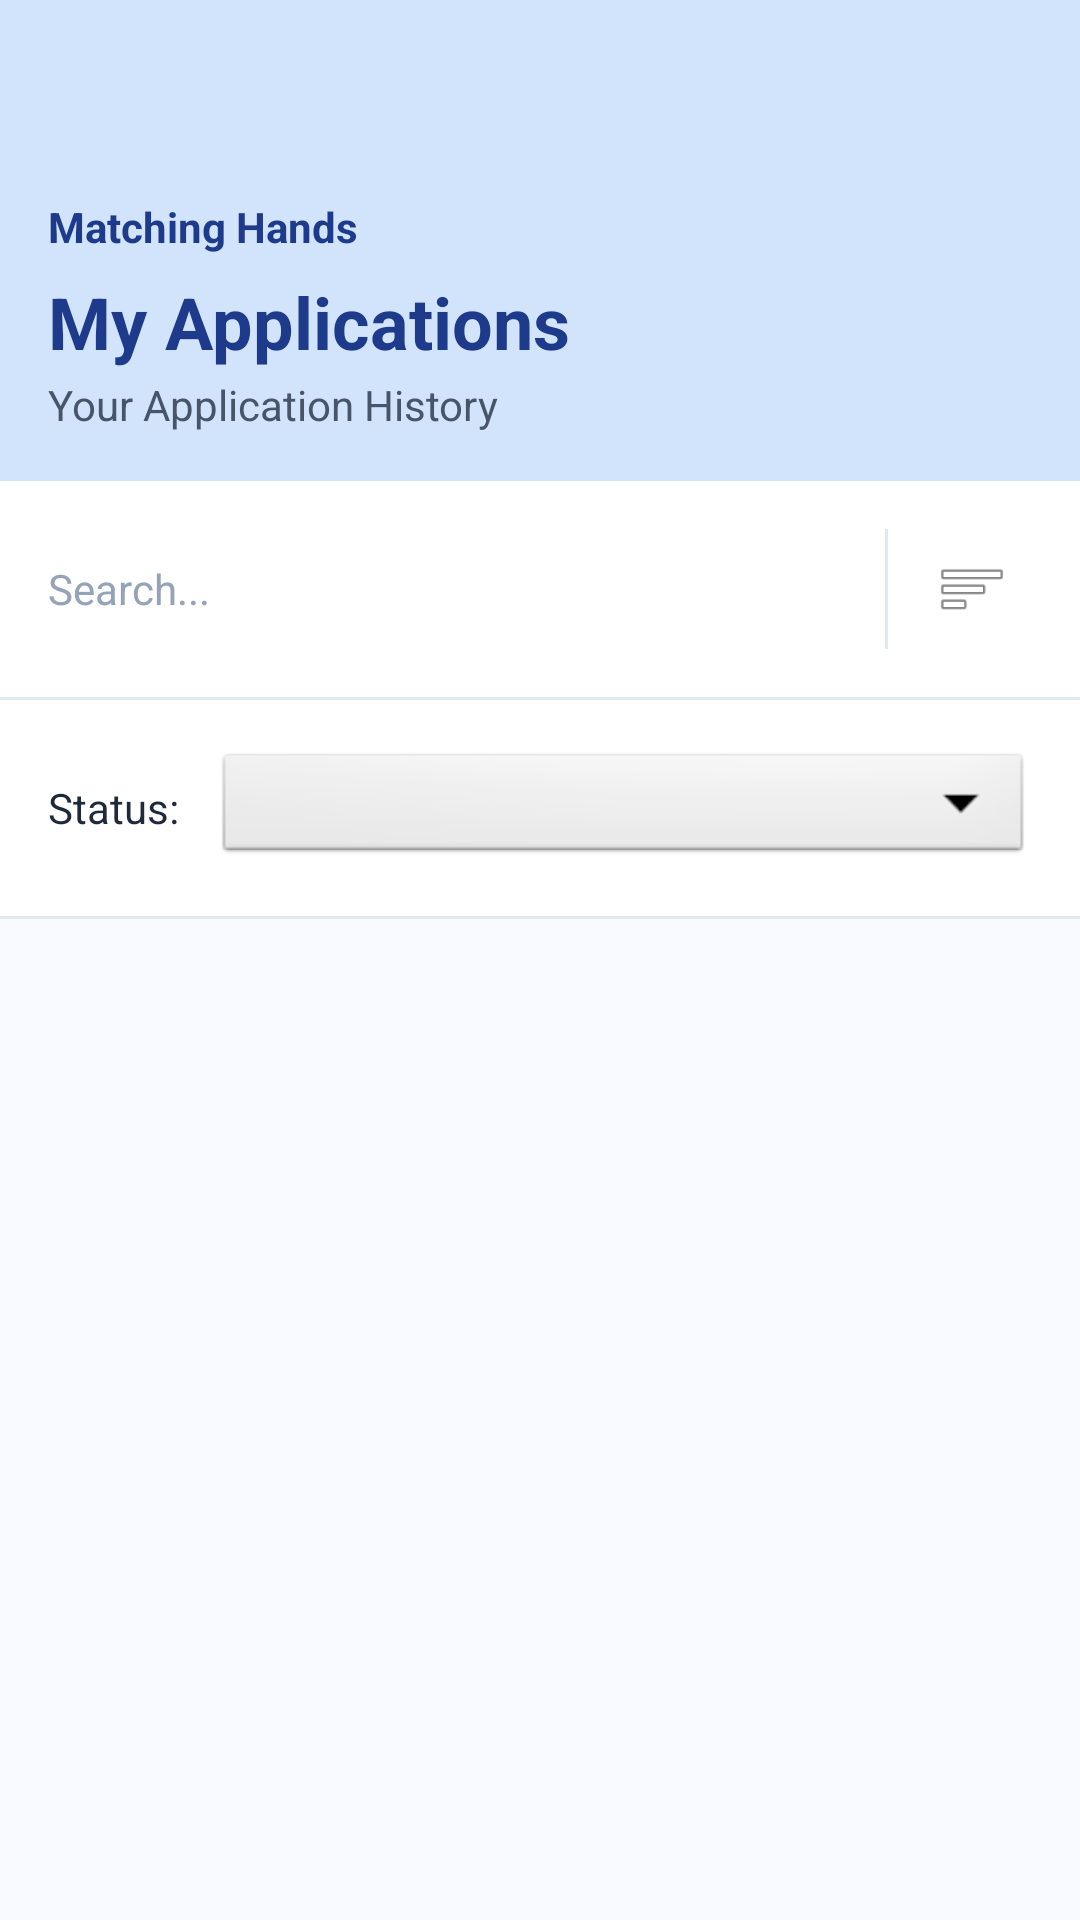

Where icons sit on this 1080x1920 app screen, as [left=x1, top=y1, right=x2, bottom=y2]:
Sort: [left=941, top=569, right=1003, bottom=610]
